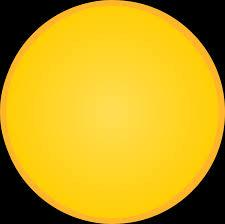yellow_circle: (0, 2, 225, 224)
